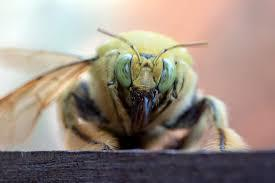Xylocopa: (14, 13, 241, 157)
